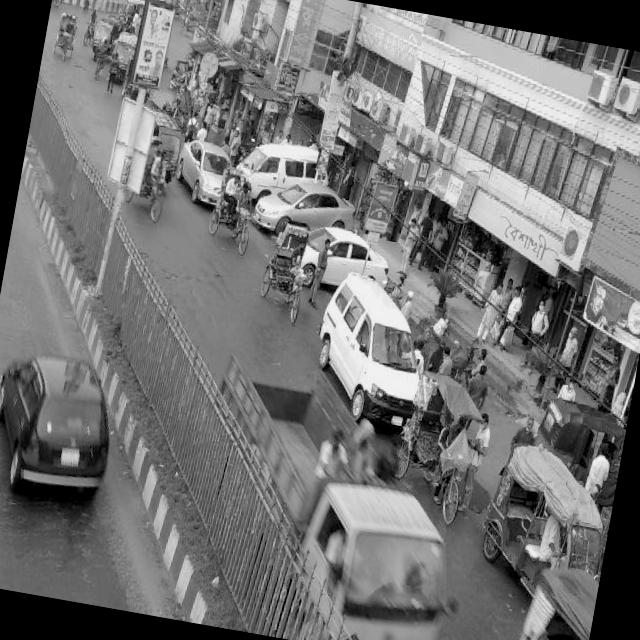car: (0, 345, 123, 498), (252, 172, 360, 242), (301, 220, 394, 296), (171, 136, 232, 206)
motorcycle: (478, 440, 617, 594), (392, 370, 481, 520), (531, 396, 627, 480), (255, 218, 314, 320), (203, 164, 260, 253), (136, 133, 174, 219), (144, 109, 184, 181), (88, 11, 120, 61), (446, 332, 476, 377), (111, 30, 133, 80), (52, 12, 75, 58), (176, 5, 197, 34), (168, 66, 190, 92), (160, 96, 182, 112)
truck: (184, 349, 482, 640), (304, 266, 436, 428), (231, 135, 331, 207)
